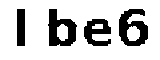6: (116, 5, 149, 50)
b: (43, 3, 78, 51)
e: (82, 16, 112, 52)
l: (11, 4, 31, 50)
